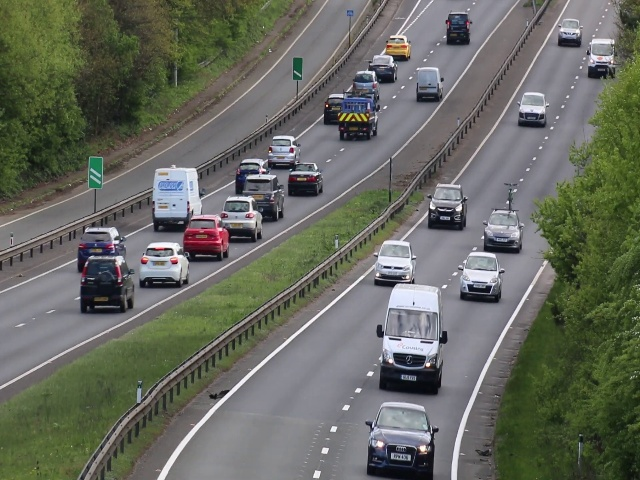car: (381, 282, 442, 395), (363, 397, 436, 478), (75, 253, 135, 312), (149, 165, 203, 228), (138, 239, 190, 288), (458, 251, 504, 305), (216, 194, 263, 245), (186, 212, 230, 263), (373, 234, 415, 285), (336, 97, 384, 140), (241, 173, 285, 218), (427, 180, 466, 230), (483, 207, 522, 252), (76, 223, 123, 260), (286, 160, 328, 194), (265, 135, 304, 166), (588, 36, 616, 79), (414, 63, 444, 101), (517, 88, 547, 126), (444, 13, 472, 45), (370, 52, 397, 81), (557, 17, 581, 45), (386, 33, 410, 60), (353, 72, 377, 94), (324, 91, 340, 122), (237, 158, 266, 174)
